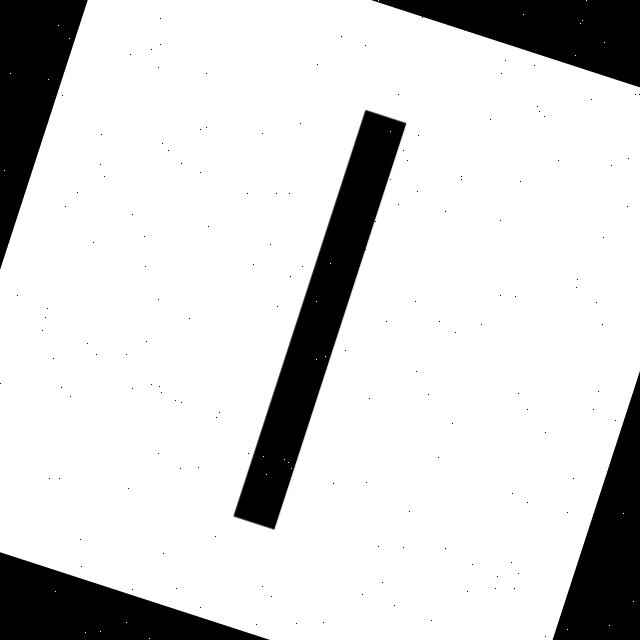line: (234, 112, 406, 530)
